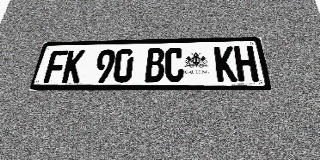0: (112, 49, 134, 82)
9: (93, 49, 116, 83)
B: (145, 48, 165, 82)
C: (165, 47, 184, 82)
F: (43, 50, 68, 83)
H: (234, 46, 259, 82)
K: (214, 46, 237, 82), (61, 50, 86, 83)
